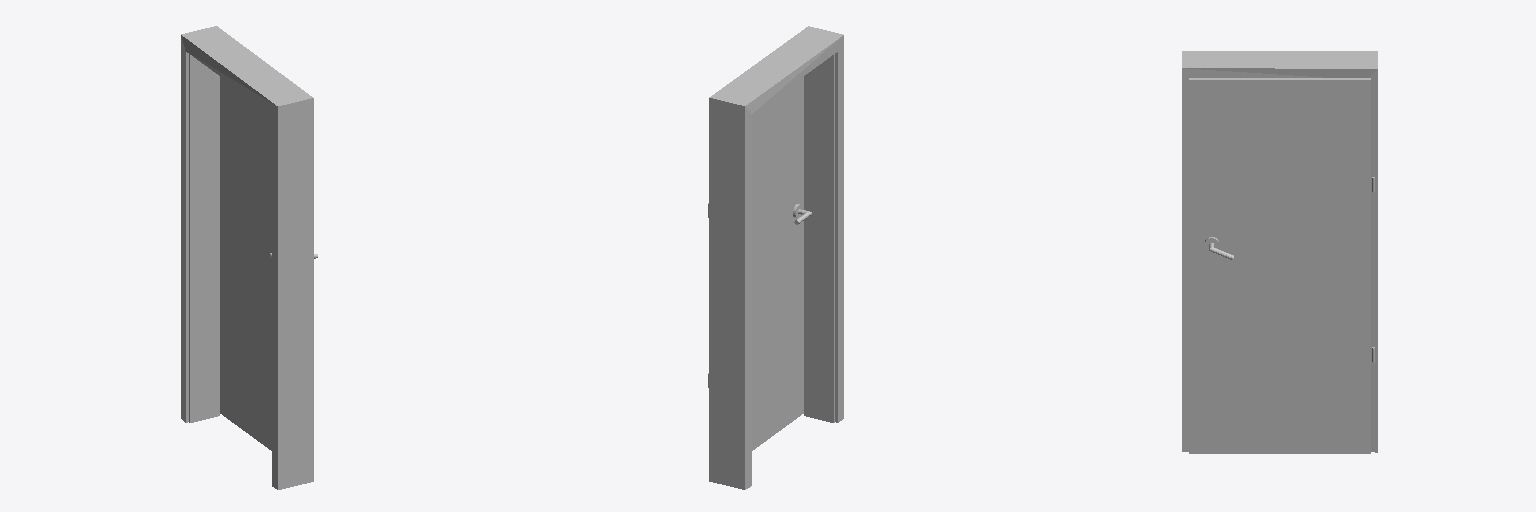
The model's file is door53.obj.
The picture shows the model from 3 angles: view 1: azimuth 30°, elevation 25°; view 2: azimuth 150°, elevation 25°; view 3: azimuth 270°, elevation 25°; orthographic projection.
Visible parts, largest first — view 1: Cylinder.005, Cylinder.001; view 2: Cylinder.005, Cylinder.001; view 3: Cylinder.001, Cylinder.005.
Boxes of the visible parts, <box> form: Cylinder.005: <box>181,26,313,489</box>; Cylinder.001: <box>220,77,271,450</box>; Cylinder.005: <box>708,26,843,489</box>; Cylinder.001: <box>708,77,803,450</box>; Cylinder.001: <box>1189,78,1374,453</box>; Cylinder.005: <box>1182,51,1377,452</box>.
Size of the model in its own units: 0.3039 by 2.05 by 0.95.